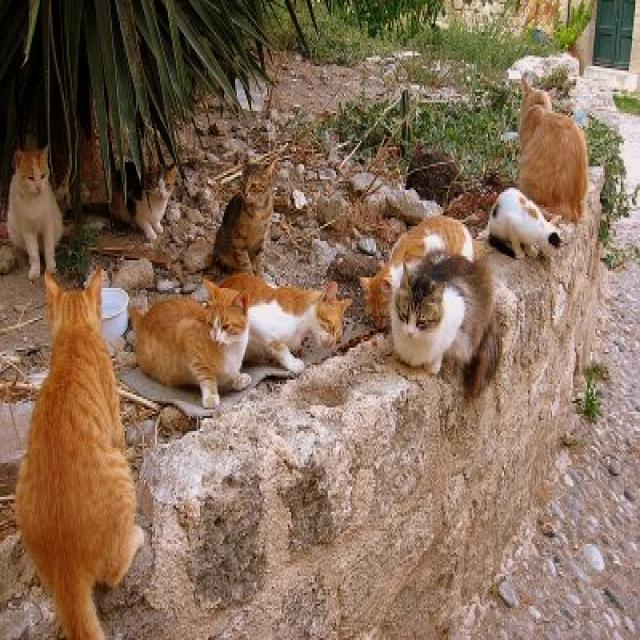cat: (18, 271, 144, 638), (390, 253, 501, 396), (131, 280, 251, 408), (220, 273, 351, 372), (362, 218, 472, 328), (519, 75, 589, 221), (8, 150, 62, 279), (214, 160, 274, 272), (112, 162, 176, 242), (488, 190, 561, 258)
